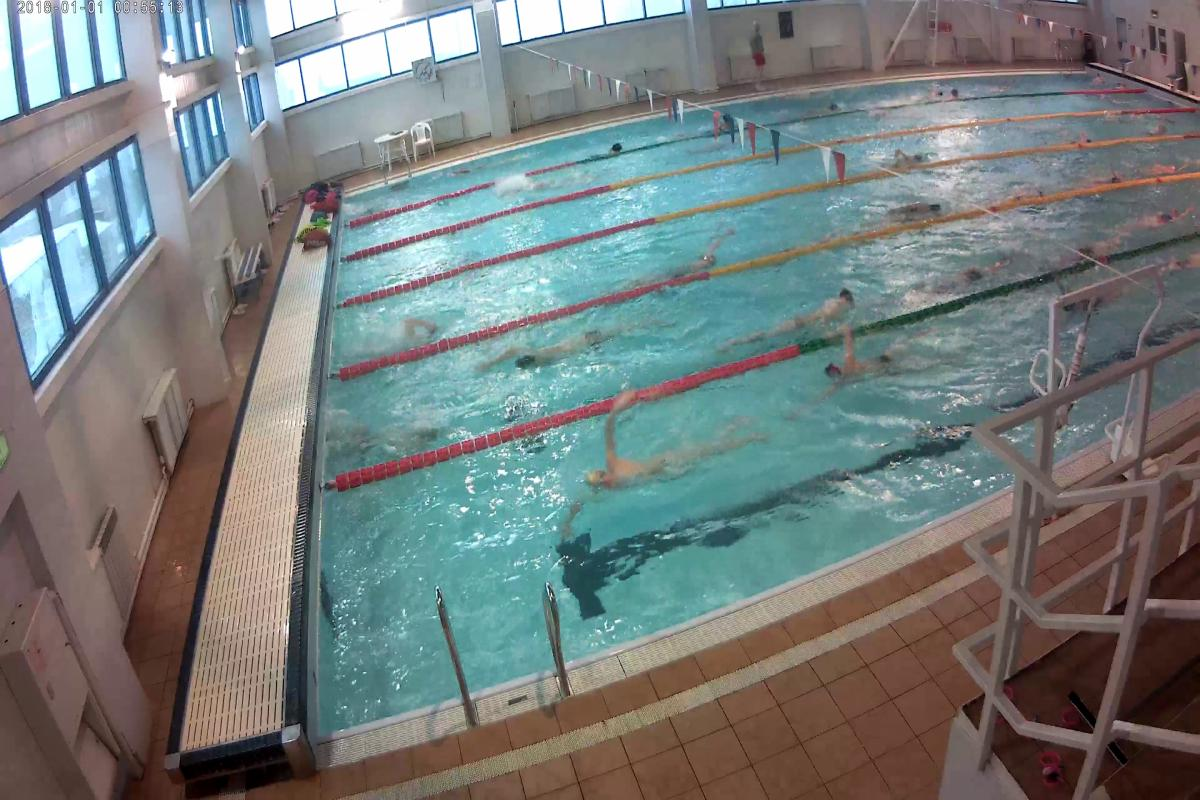swimmer: (582, 395, 779, 485), (528, 302, 650, 362), (763, 282, 869, 348), (817, 340, 919, 399), (343, 411, 455, 456), (660, 233, 740, 278), (926, 256, 999, 295), (1134, 196, 1200, 231), (391, 312, 449, 350), (884, 193, 948, 225), (881, 146, 931, 171)
